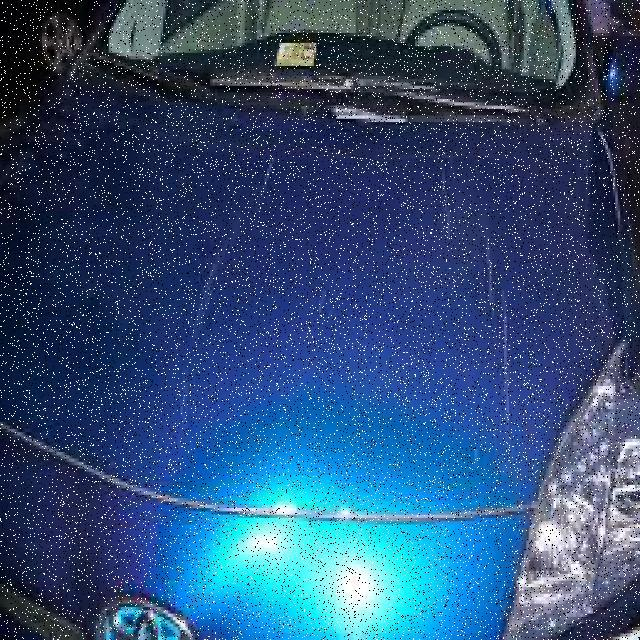bonnet-dent: (0, 79, 618, 587)
